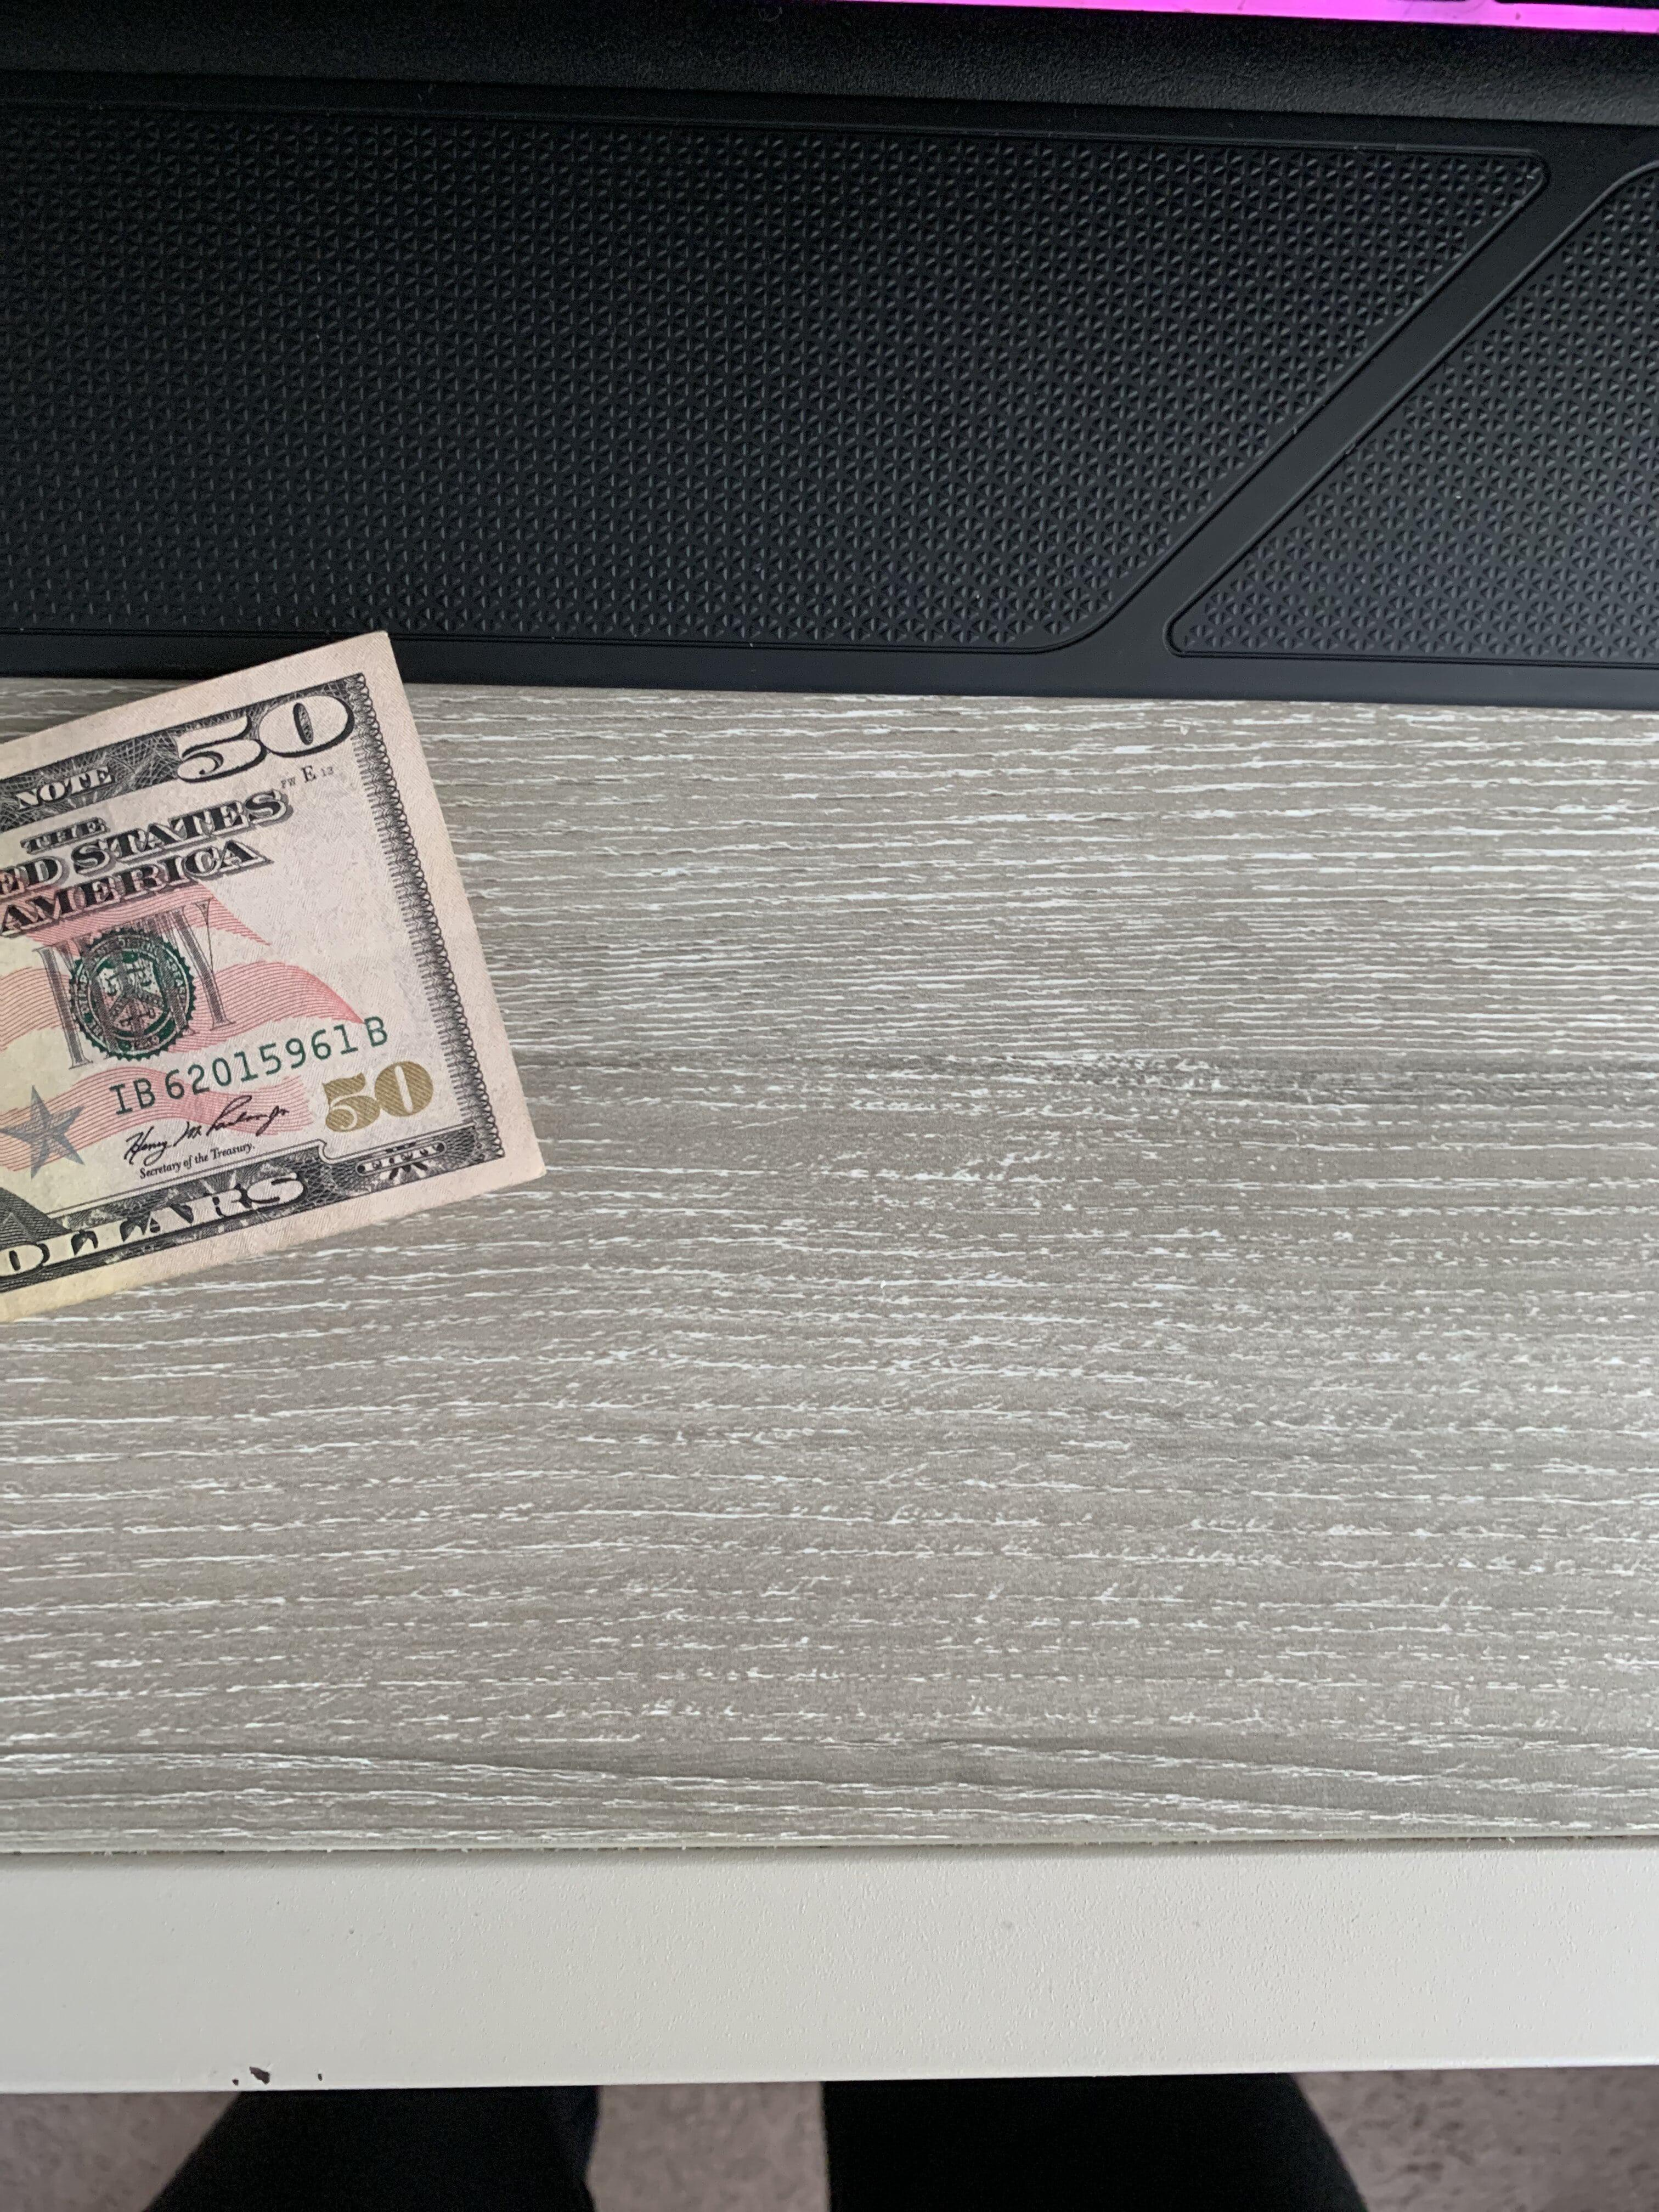FiftyBill: (2, 590, 613, 1346)
